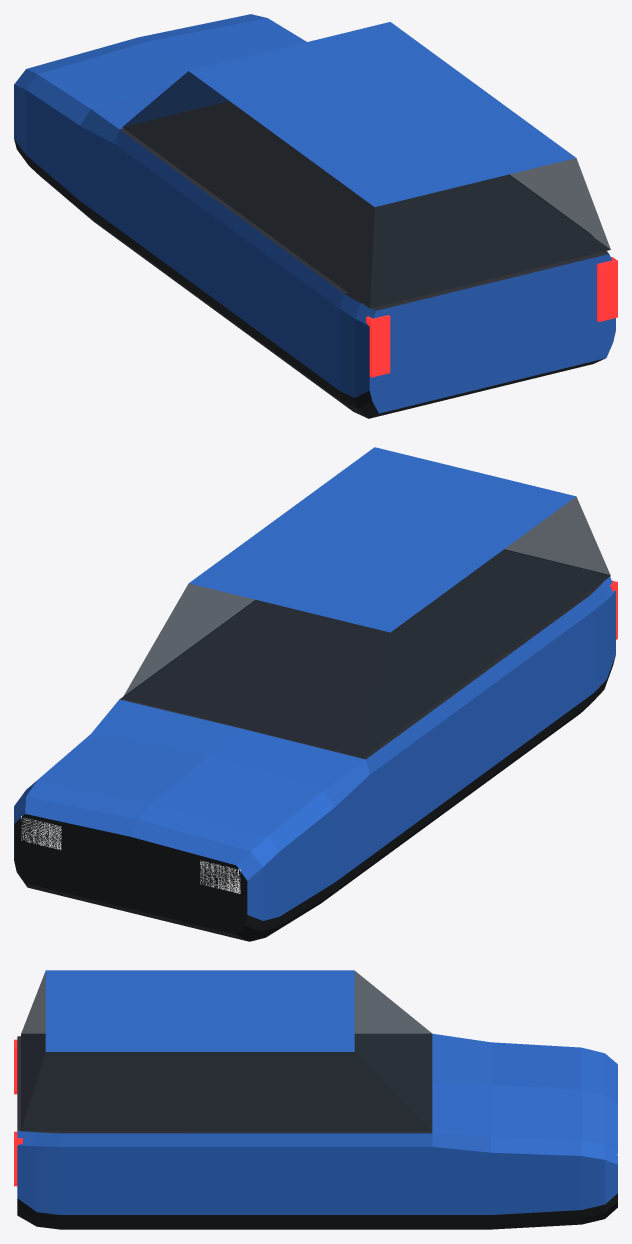
Rendered from suv_lod.glb.
3 views of the same model, one above another, from view 1: azimuth 30°, elevation 25°; view 2: azimuth 150°, elevation 25°; view 3: azimuth 270°, elevation 25° (orthographic). The views are drawn at different scales.
Visible parts, largest first — view 1: Body; view 2: Body; view 3: Body.
Part boxes in pixels (box(x1,y1,x2,y2)): Body: box(14, 14, 617, 418); Body: box(14, 447, 617, 941); Body: box(14, 970, 617, 1229).
Bounding box in the file's own units: 1.88 × 1.46 × 4.66.
